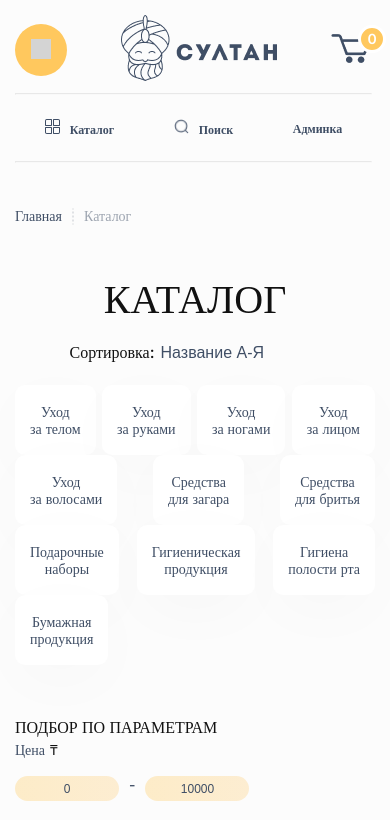
Test routing › Test admin link
What coordinates should you click on to do the following:
click the link with test id "admin-link"
I would click on:
 (318, 128)
Its box is [293,120,342,136].
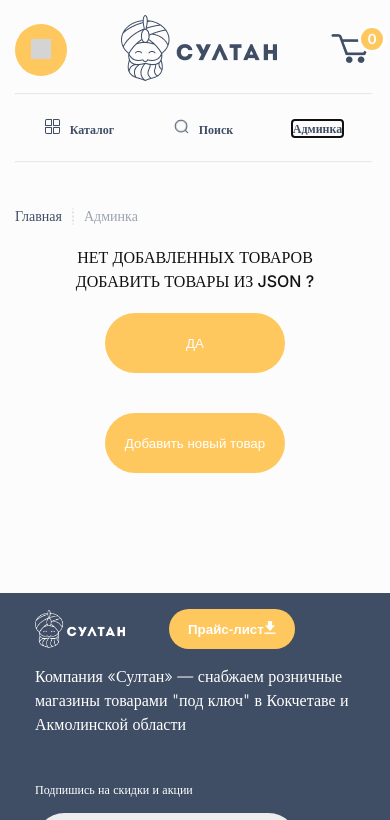
Expected: the element with test id "admin-page" is shown, [15,207,314,473]
